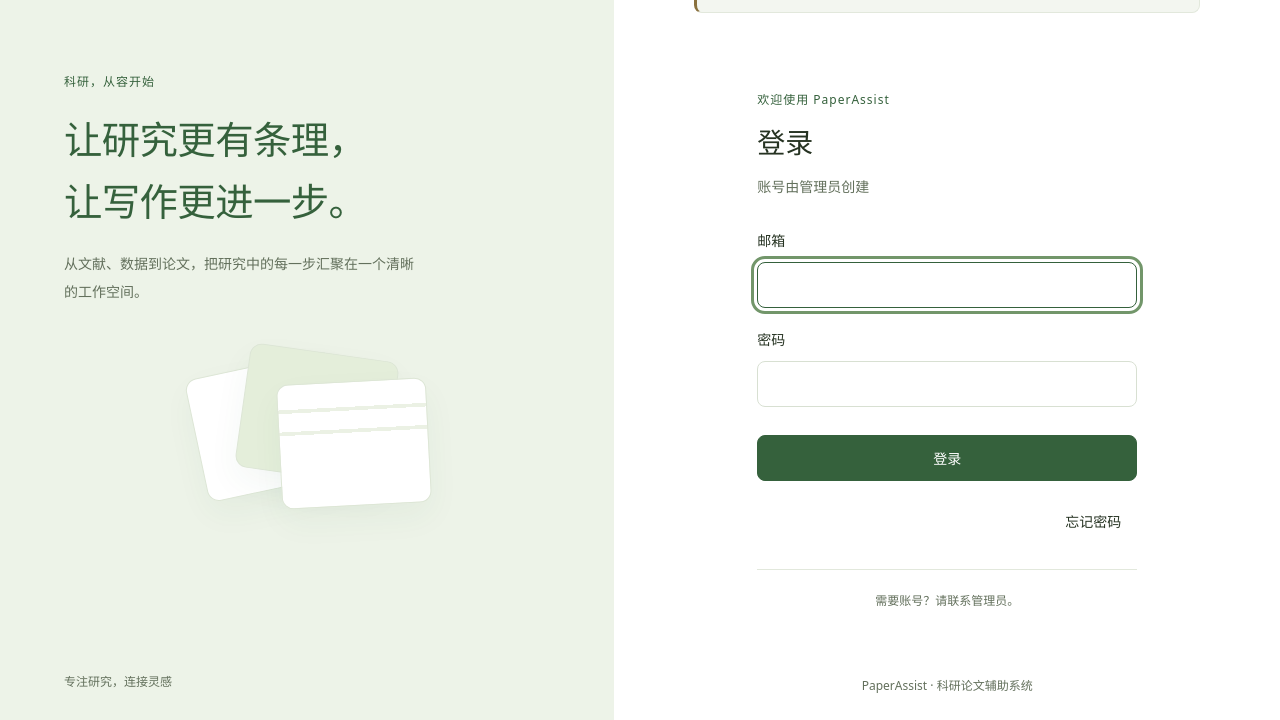
Scenario: retains the bounded 429 branch for Retry-After=null
(page scrolled)
Click the button "忘记密码" at (1093, 521), box [1049,501,1137,541]
(page scrolled)
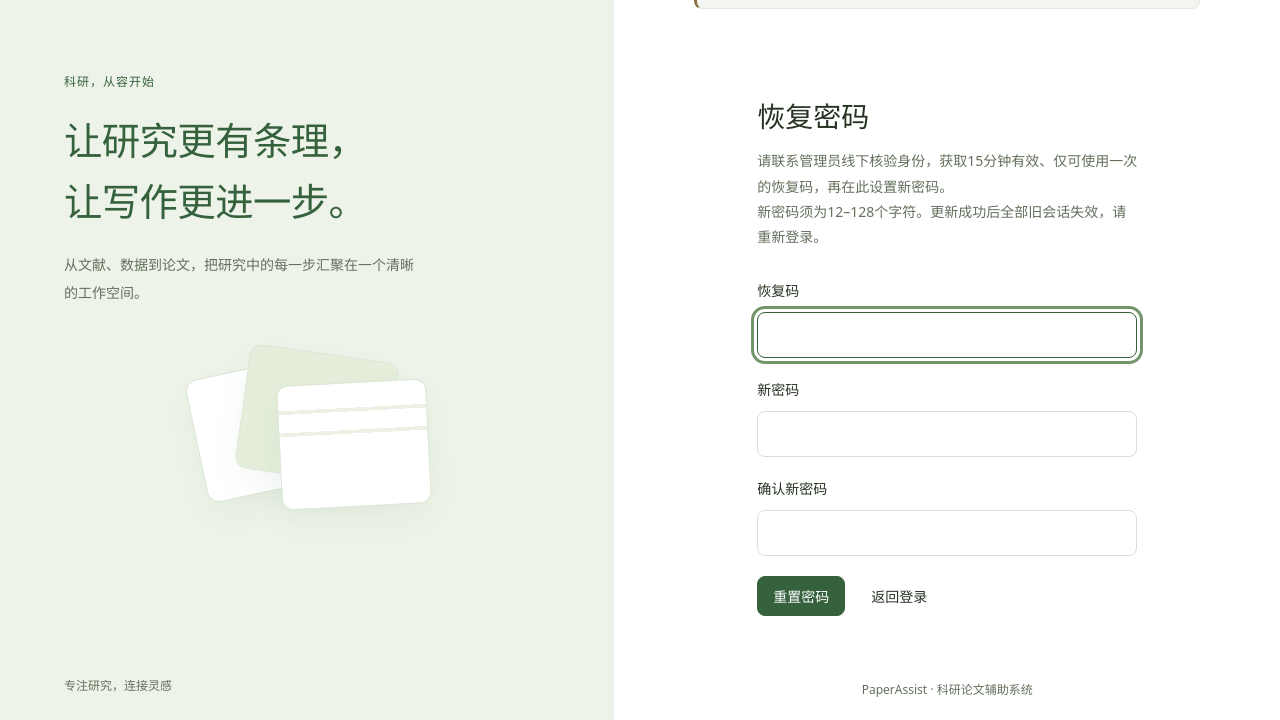
Type "one-use-code" into the password field labelled "恢复码" at (947, 335), box [757,312,1137,358]
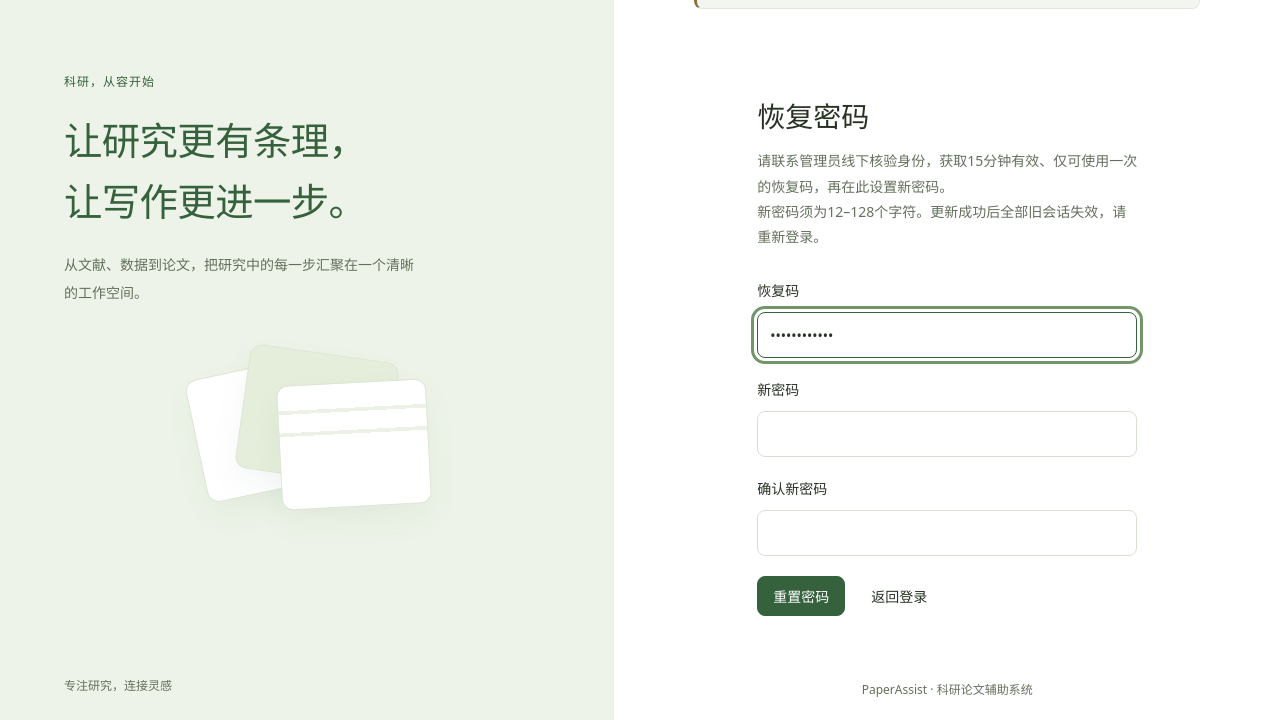
Type "new-password-123" into the password field labelled "新密码" at (947, 434), box [757,411,1137,457]
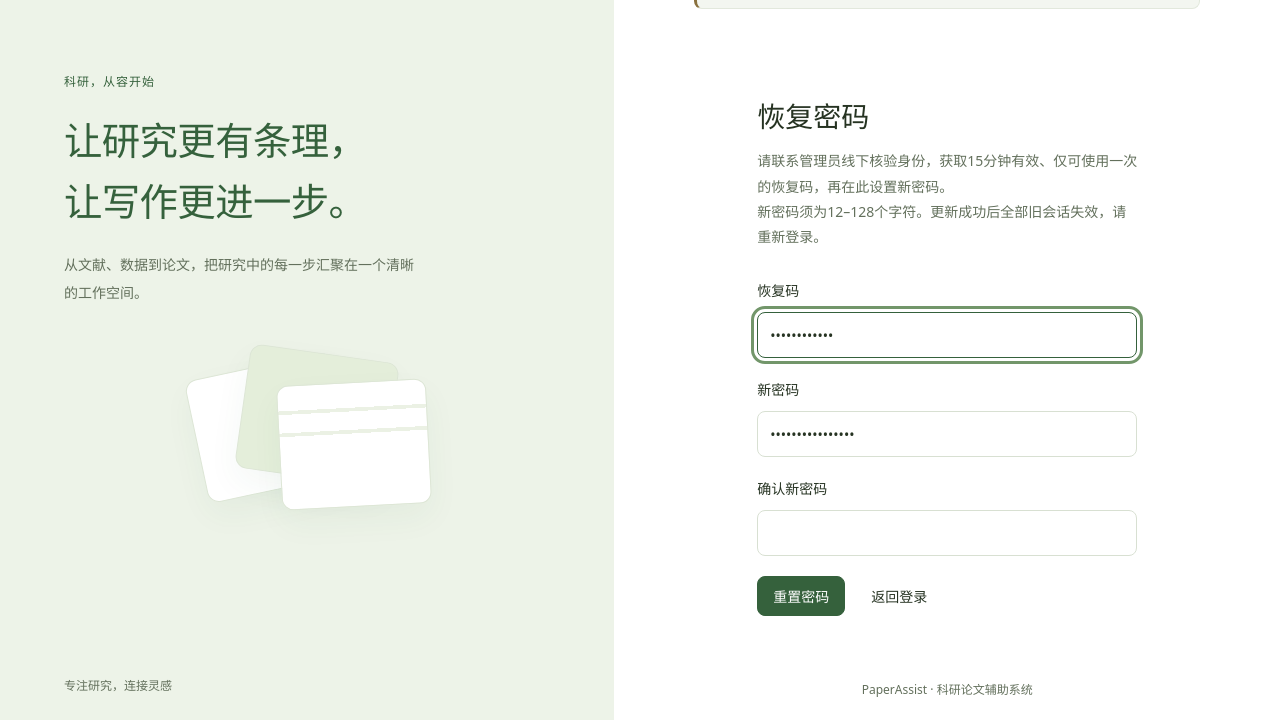
Type "new-password-123" into the password field labelled "确认新密码" at (947, 534), box [757,510,1137,556]
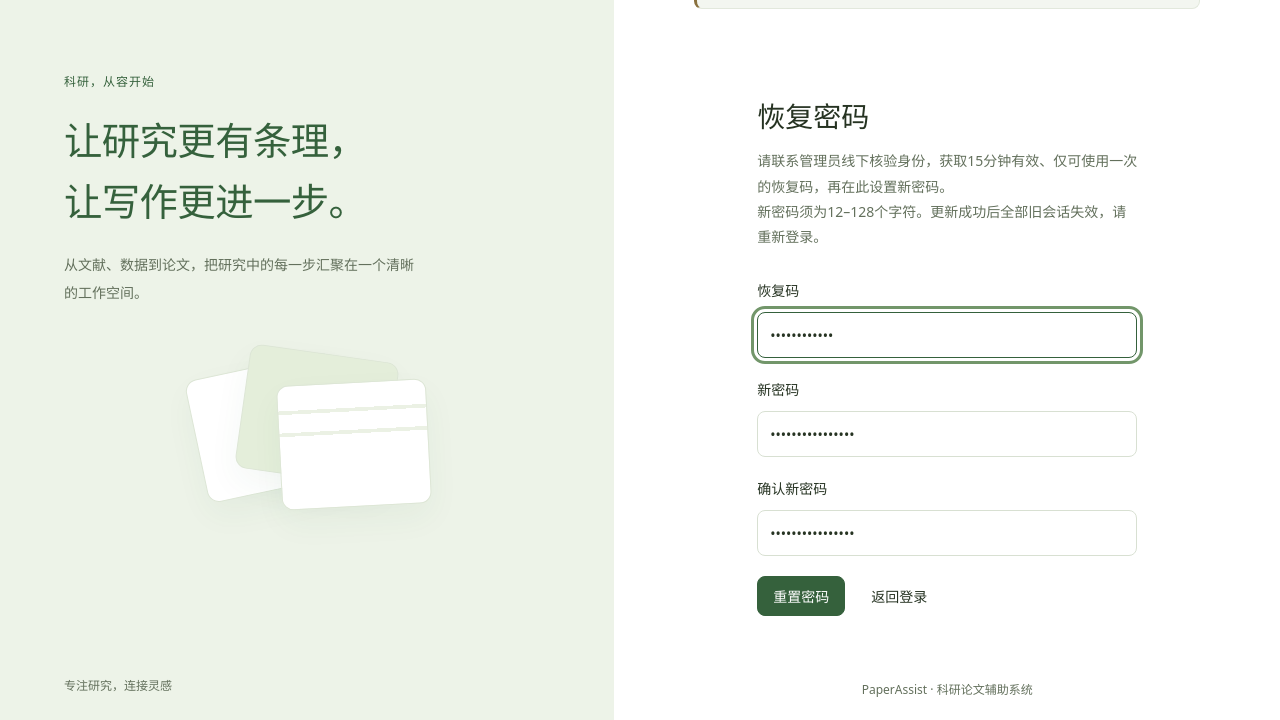
Submit the form labelled "新密码", box [757,279,1137,616]
(page scrolled)
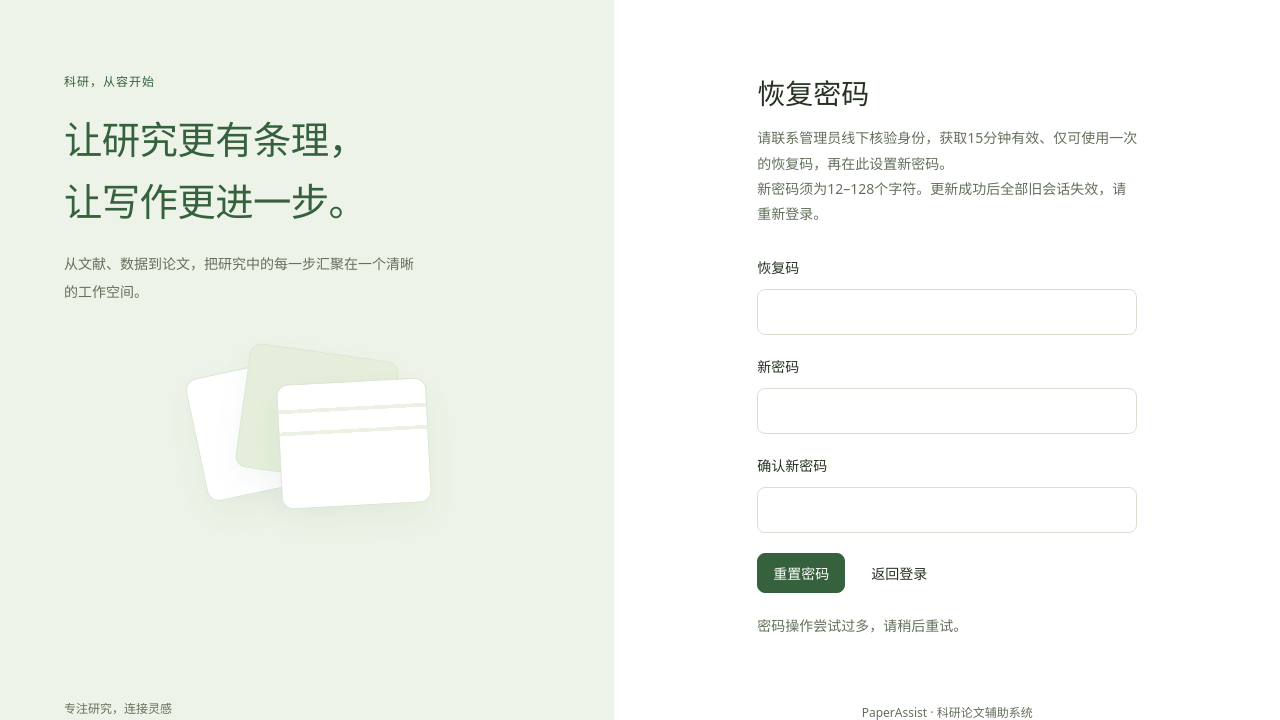
Check: the message reads "密码操作尝试过多，请稍后重试。", box [757,616,967,636]
